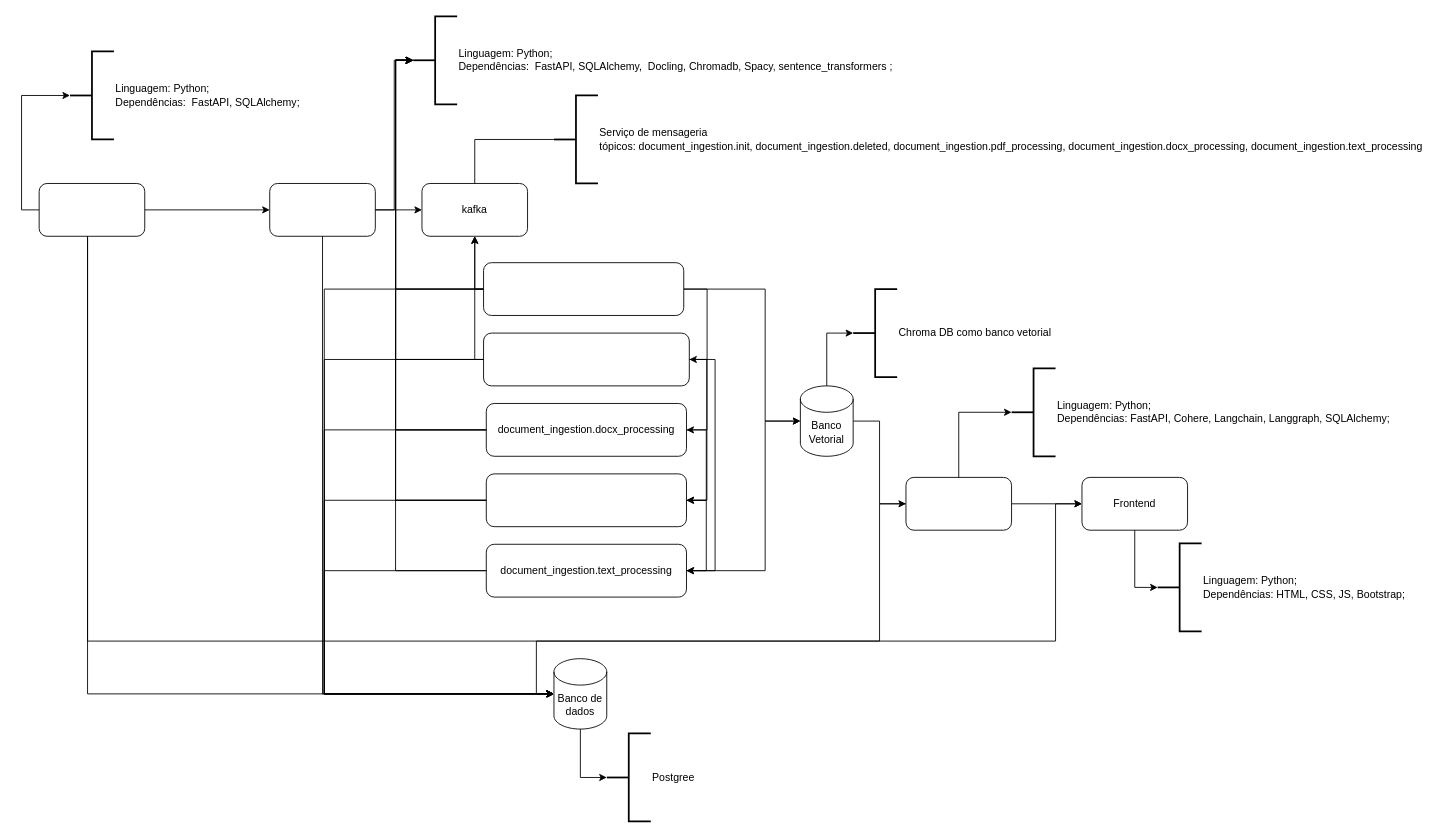
Some shapes in this 1438 by 837 pixel diagram are drawn without their labels. The shapes that lost their labels are listed below. From the top down, each one's box as (x1, y1, x2, y2) in pixels, then its label:
(38, 183, 145, 236): API de autenticação
(269, 183, 375, 236): API de ingestão de dados
(483, 262, 684, 315): document_ingestion.deleted
(483, 332, 689, 386): document_ingestion.init
(485, 473, 686, 527): document_ingestion.pdf_processing
(905, 477, 1012, 530): API do chatbot
